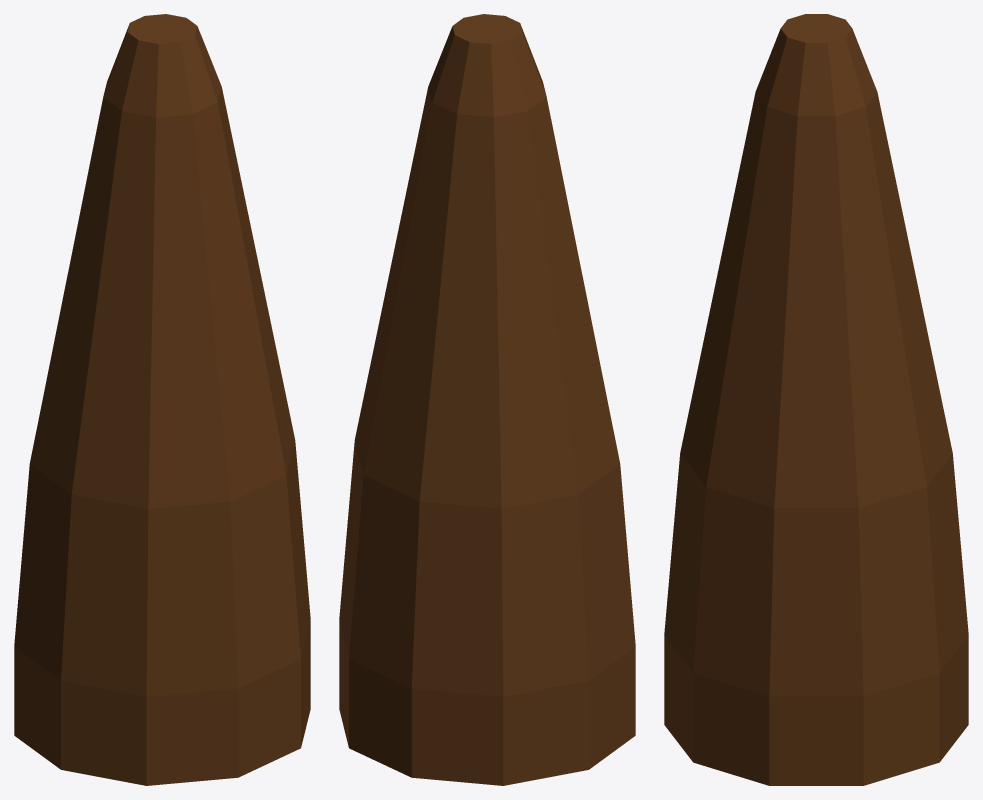
Rendered from Rifle Bullet.fbx.
3 views of the same model, side by side, from view 1: azimuth 30°, elevation 25°; view 2: azimuth 150°, elevation 25°; view 3: azimuth 270°, elevation 25° (orthographic).
Parts seen in each view (by area): view 1: Rifle Bullet; view 2: Rifle Bullet; view 3: Rifle Bullet.
Part boxes in pixels (box(x1,y1,x2,y2)): Rifle Bullet: box(14, 14, 310, 785); Rifle Bullet: box(339, 14, 635, 785); Rifle Bullet: box(664, 14, 968, 785).
Size of the model in its own units: 0.8944 by 2.37 by 0.9404.
